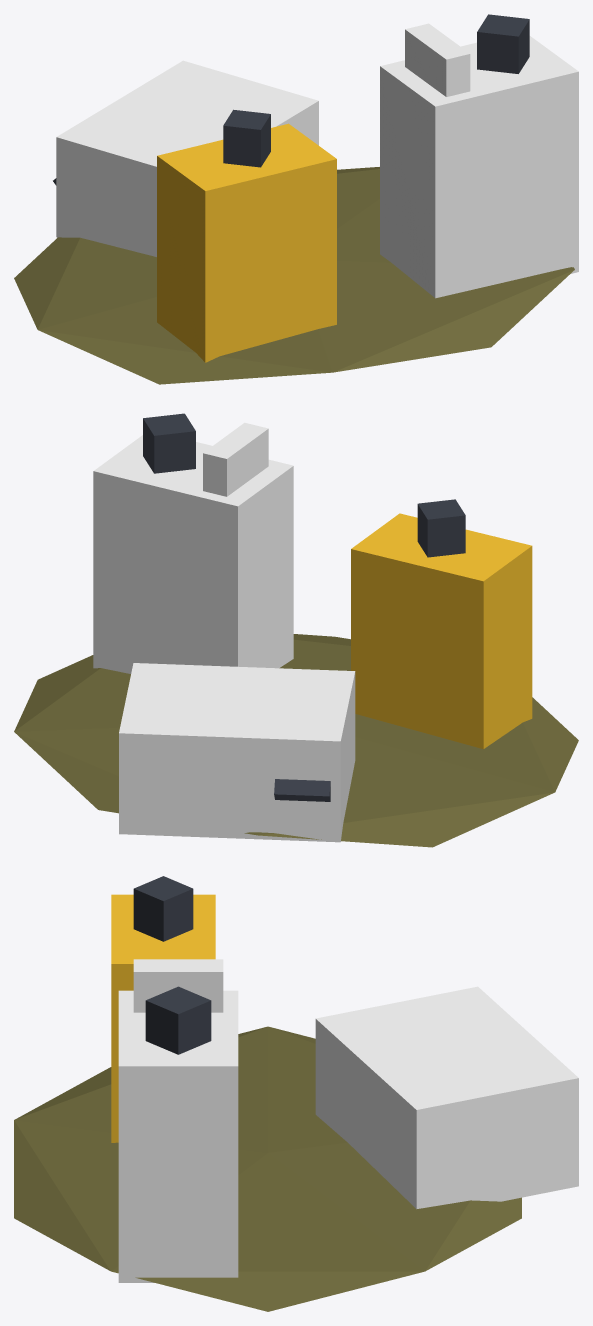
File: galao_agrotoxico.glb
3 views of the same model, one above another, from view 1: azimuth 30°, elevation 25°; view 2: azimuth 150°, elevation 25°; view 3: azimuth 270°, elevation 25° (orthographic). The views are drawn at different scales.
Visible parts, largest first — view 1: corpo; view 2: corpo; view 3: corpo.
Part boxes in pixels (box(x1,y1,x2,y2)): corpo: box(14, 14, 578, 384); corpo: box(14, 413, 578, 847); corpo: box(14, 876, 578, 1311).
Bounding box in the file's own units: 0.4293 × 0.202 × 0.3783.
